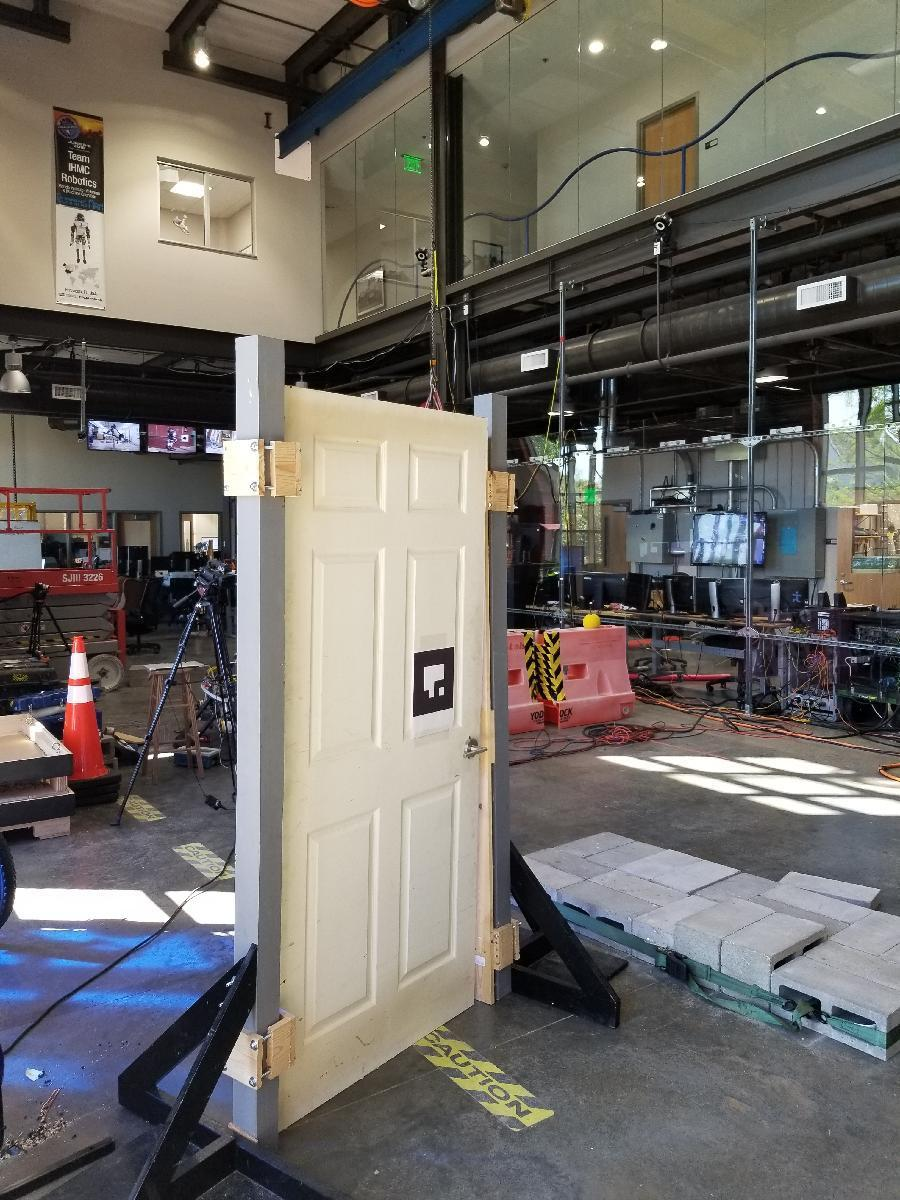door: (278, 388, 484, 1113)
handle: (459, 736, 488, 758)
